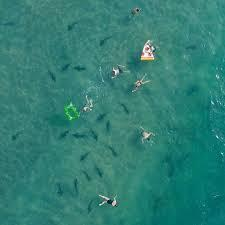swimmer: (128, 73, 151, 99), (96, 193, 121, 210), (137, 125, 157, 146), (98, 33, 116, 50), (82, 93, 95, 114), (46, 68, 60, 86), (110, 64, 125, 78), (118, 101, 131, 117), (106, 146, 120, 160), (0, 16, 15, 29), (72, 132, 91, 142), (129, 4, 143, 17), (11, 130, 24, 144), (93, 164, 106, 178), (86, 197, 95, 217), (94, 109, 110, 120), (105, 120, 114, 139), (71, 65, 89, 74), (89, 127, 99, 143), (67, 19, 79, 32), (79, 151, 93, 162), (83, 170, 94, 184), (73, 178, 81, 196), (59, 61, 70, 72), (186, 41, 197, 52), (56, 131, 70, 139), (57, 184, 65, 198)
